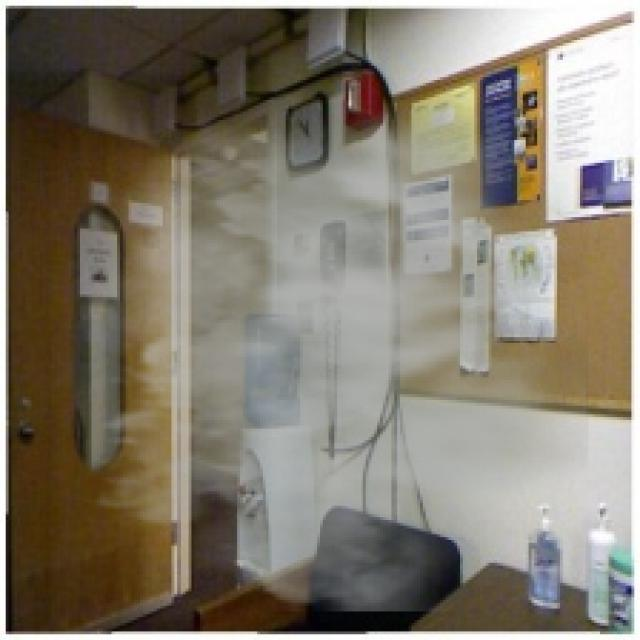Smoke: (42, 79, 588, 612)
